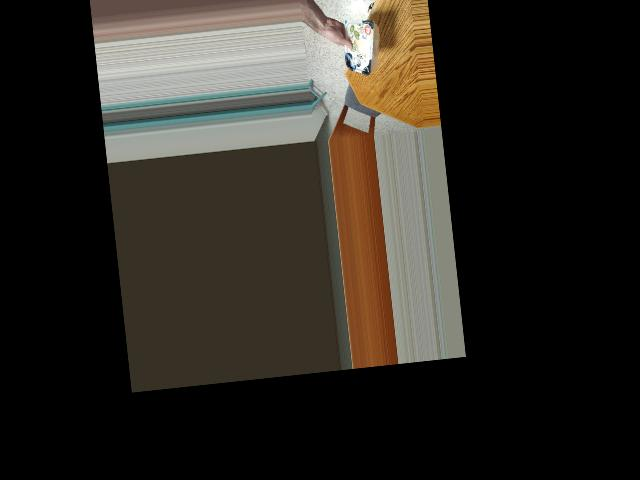cheese: (335, 19, 379, 74)
